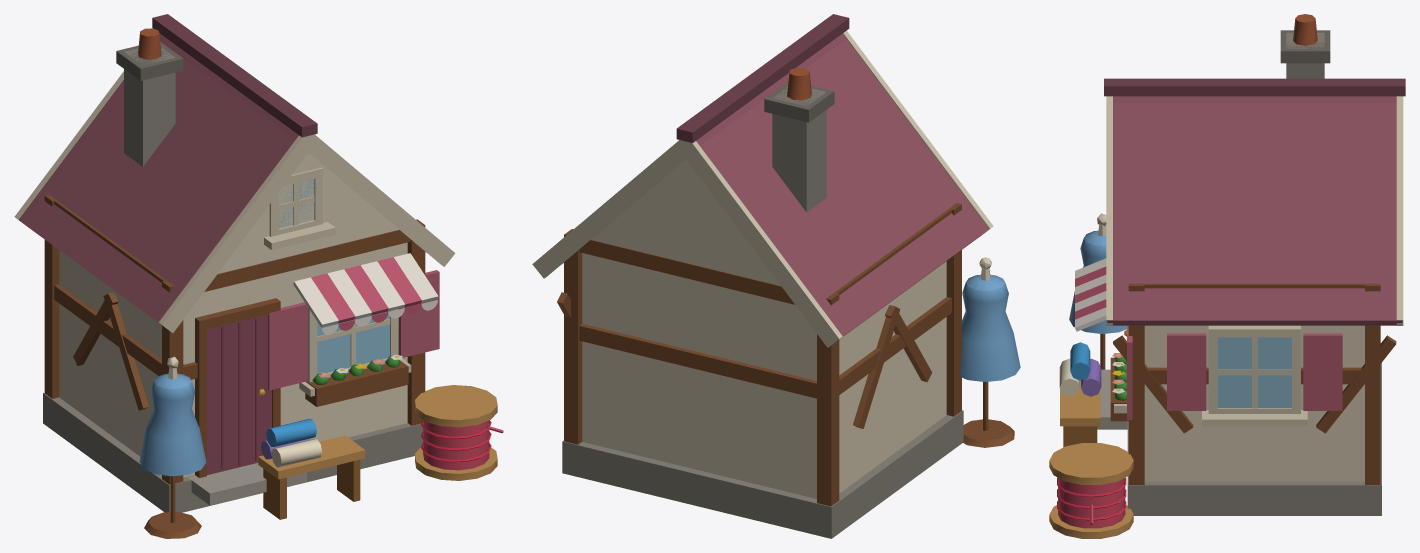
File: sewing.glb
3 views of the same model, side by side, from view 1: azimuth 30°, elevation 25°; view 2: azimuth 150°, elevation 25°; view 3: azimuth 270°, elevation 25° (orthographic). The views are drawn at different scales.
Visible parts, largest first — view 1: building-sewing; view 2: building-sewing; view 3: building-sewing.
Part boxes in pixels (<box>): building-sewing: <box>14,14,503,538</box>; building-sewing: <box>532,14,1020,538</box>; building-sewing: <box>1049,14,1405,538</box>.
Size of the model in its own units: 3.66 by 3.97 by 3.17.
